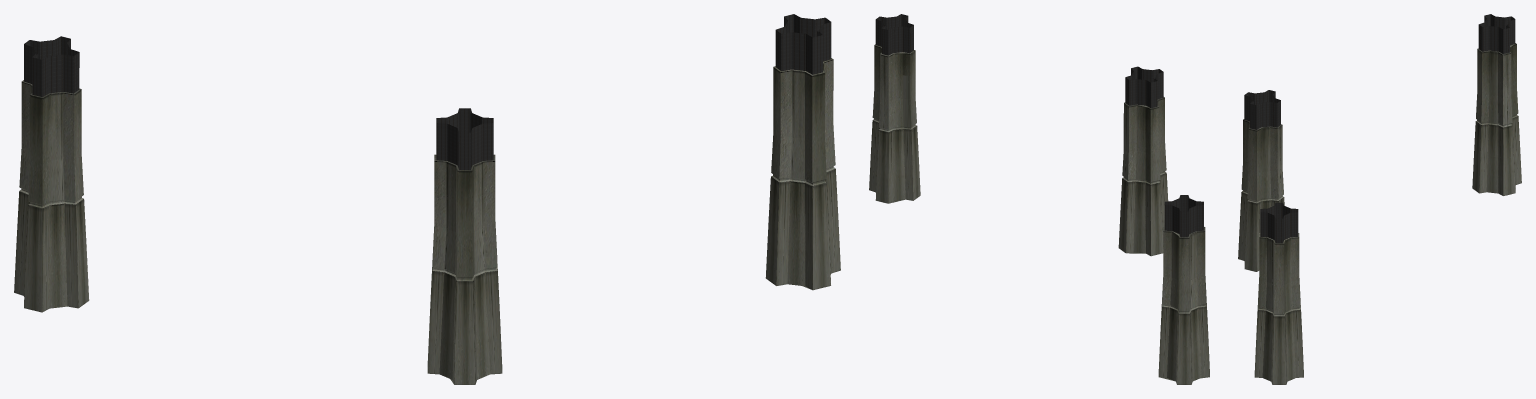
File: columns.glb
The picture shows the model from 3 angles, left to right: view 1: azimuth 30°, elevation 25°; view 2: azimuth 150°, elevation 25°; view 3: azimuth 270°, elevation 25°; orthographic projection. The views are drawn at different scales.
Parts seen in each view (by area): view 1: mesh_166_Mesh_column01_subset_0, mesh_165_Mesh_column02_subset_0, mesh_167_Mesh_column_subset_0, mesh_167_Mesh_column_subset_1, mesh_166_Mesh_column01_subset_1, mesh_165_Mesh_column02_subset_1; view 2: mesh_165_Mesh_column02_subset_0, mesh_167_Mesh_column_subset_0, mesh_166_Mesh_column01_subset_0, mesh_167_Mesh_column_subset_1, mesh_165_Mesh_column02_subset_1, mesh_166_Mesh_column01_subset_1; view 3: mesh_167_Mesh_column_subset_0, mesh_165_Mesh_column02_subset_0, mesh_166_Mesh_column01_subset_0, mesh_167_Mesh_column_subset_1, mesh_165_Mesh_column02_subset_1, mesh_166_Mesh_column01_subset_1.
Boxes of the visible parts, box(x1,y1,x2,y2) form: mesh_166_Mesh_column01_subset_0: box(427, 154, 502, 384); mesh_165_Mesh_column02_subset_0: box(14, 80, 89, 312); mesh_167_Mesh_column_subset_0: box(765, 58, 840, 290); mesh_167_Mesh_column_subset_1: box(775, 14, 831, 74); mesh_166_Mesh_column01_subset_1: box(436, 108, 493, 169); mesh_165_Mesh_column02_subset_1: box(24, 36, 79, 96); mesh_165_Mesh_column02_subset_0: box(1158, 227, 1209, 384); mesh_167_Mesh_column_subset_0: box(869, 44, 920, 203); mesh_166_Mesh_column01_subset_0: box(1118, 97, 1168, 256); mesh_167_Mesh_column_subset_1: box(875, 14, 913, 55); mesh_165_Mesh_column02_subset_1: box(1164, 195, 1203, 237); mesh_166_Mesh_column01_subset_1: box(1125, 66, 1163, 107); mesh_167_Mesh_column_subset_0: box(1254, 233, 1303, 384); mesh_165_Mesh_column02_subset_0: box(1472, 43, 1521, 195); mesh_166_Mesh_column01_subset_0: box(1238, 119, 1284, 271); mesh_167_Mesh_column_subset_1: box(1260, 202, 1298, 243); mesh_165_Mesh_column02_subset_1: box(1478, 14, 1515, 53); mesh_166_Mesh_column01_subset_1: box(1244, 90, 1280, 129).
Size of the model in its own units: 33.58 by 12.25 by 19.21.
Materials: 2 (2 with a texture image).
